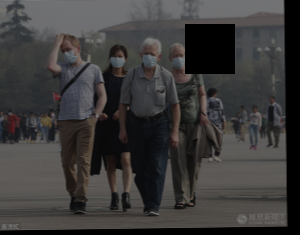with_mask: (141, 48, 158, 69), (59, 45, 77, 64), (170, 50, 186, 68), (108, 52, 125, 68)
without_mask: (269, 95, 274, 102), (252, 105, 257, 111)
